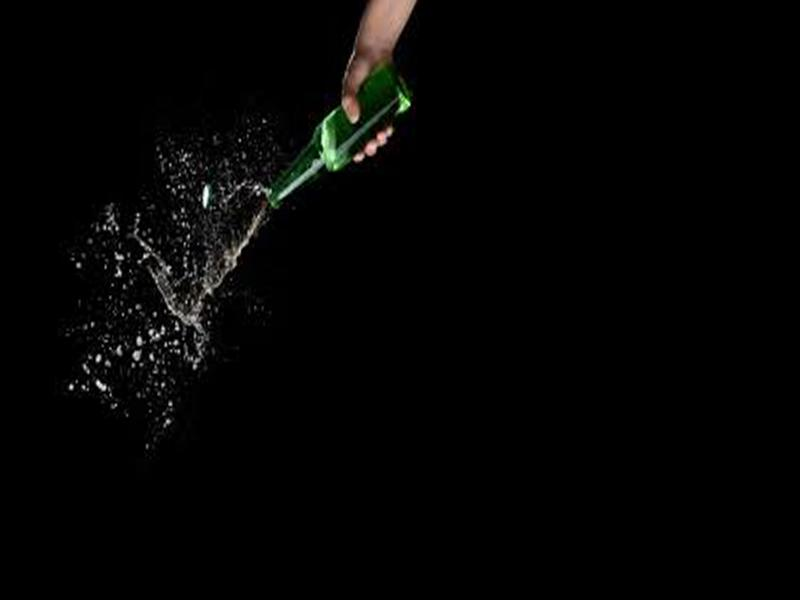Beer: (265, 54, 416, 210)
